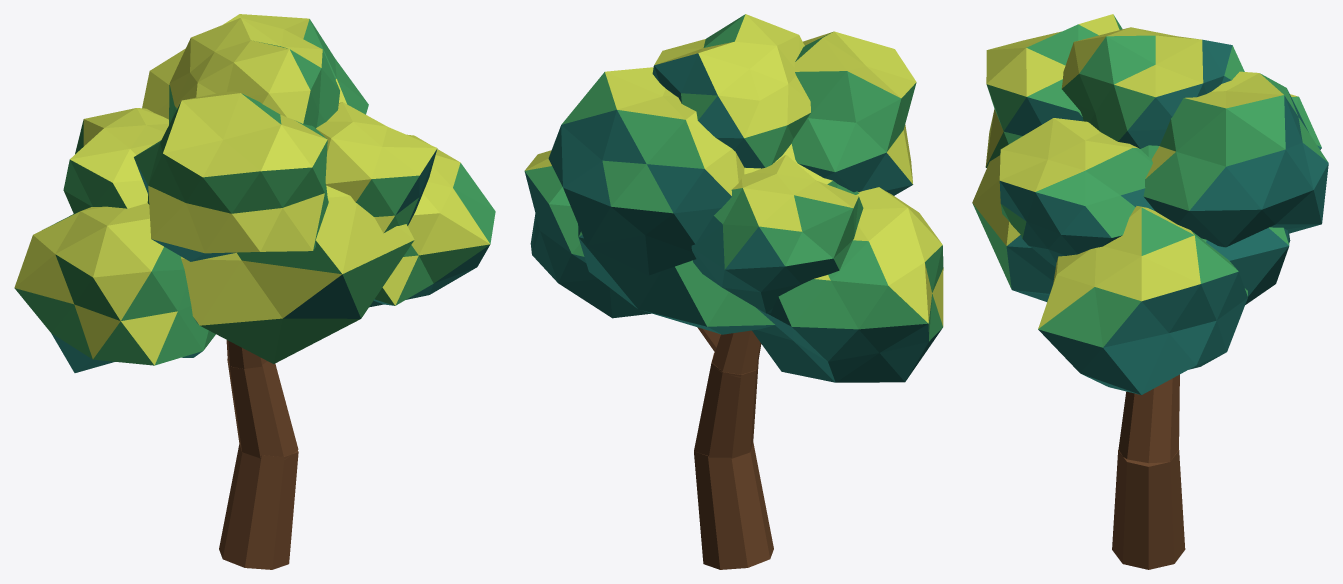
Rendered from Agac_Buyuk.fbx.
The picture shows the model from 3 angles, left to right: view 1: azimuth 30°, elevation 25°; view 2: azimuth 150°, elevation 25°; view 3: azimuth 270°, elevation 25°; orthographic projection.
Parts seen in each view (by area): view 1: Agac_Buyuk; view 2: Agac_Buyuk; view 3: Agac_Buyuk.
Boxes of the visible parts, x1=… form: Agac_Buyuk: x1=14, y1=14, x2=495, y2=569; Agac_Buyuk: x1=524, y1=14, x2=943, y2=569; Agac_Buyuk: x1=972, y1=14, x2=1328, y2=569.
Size of the model in its own units: 355 by 412 by 253.
